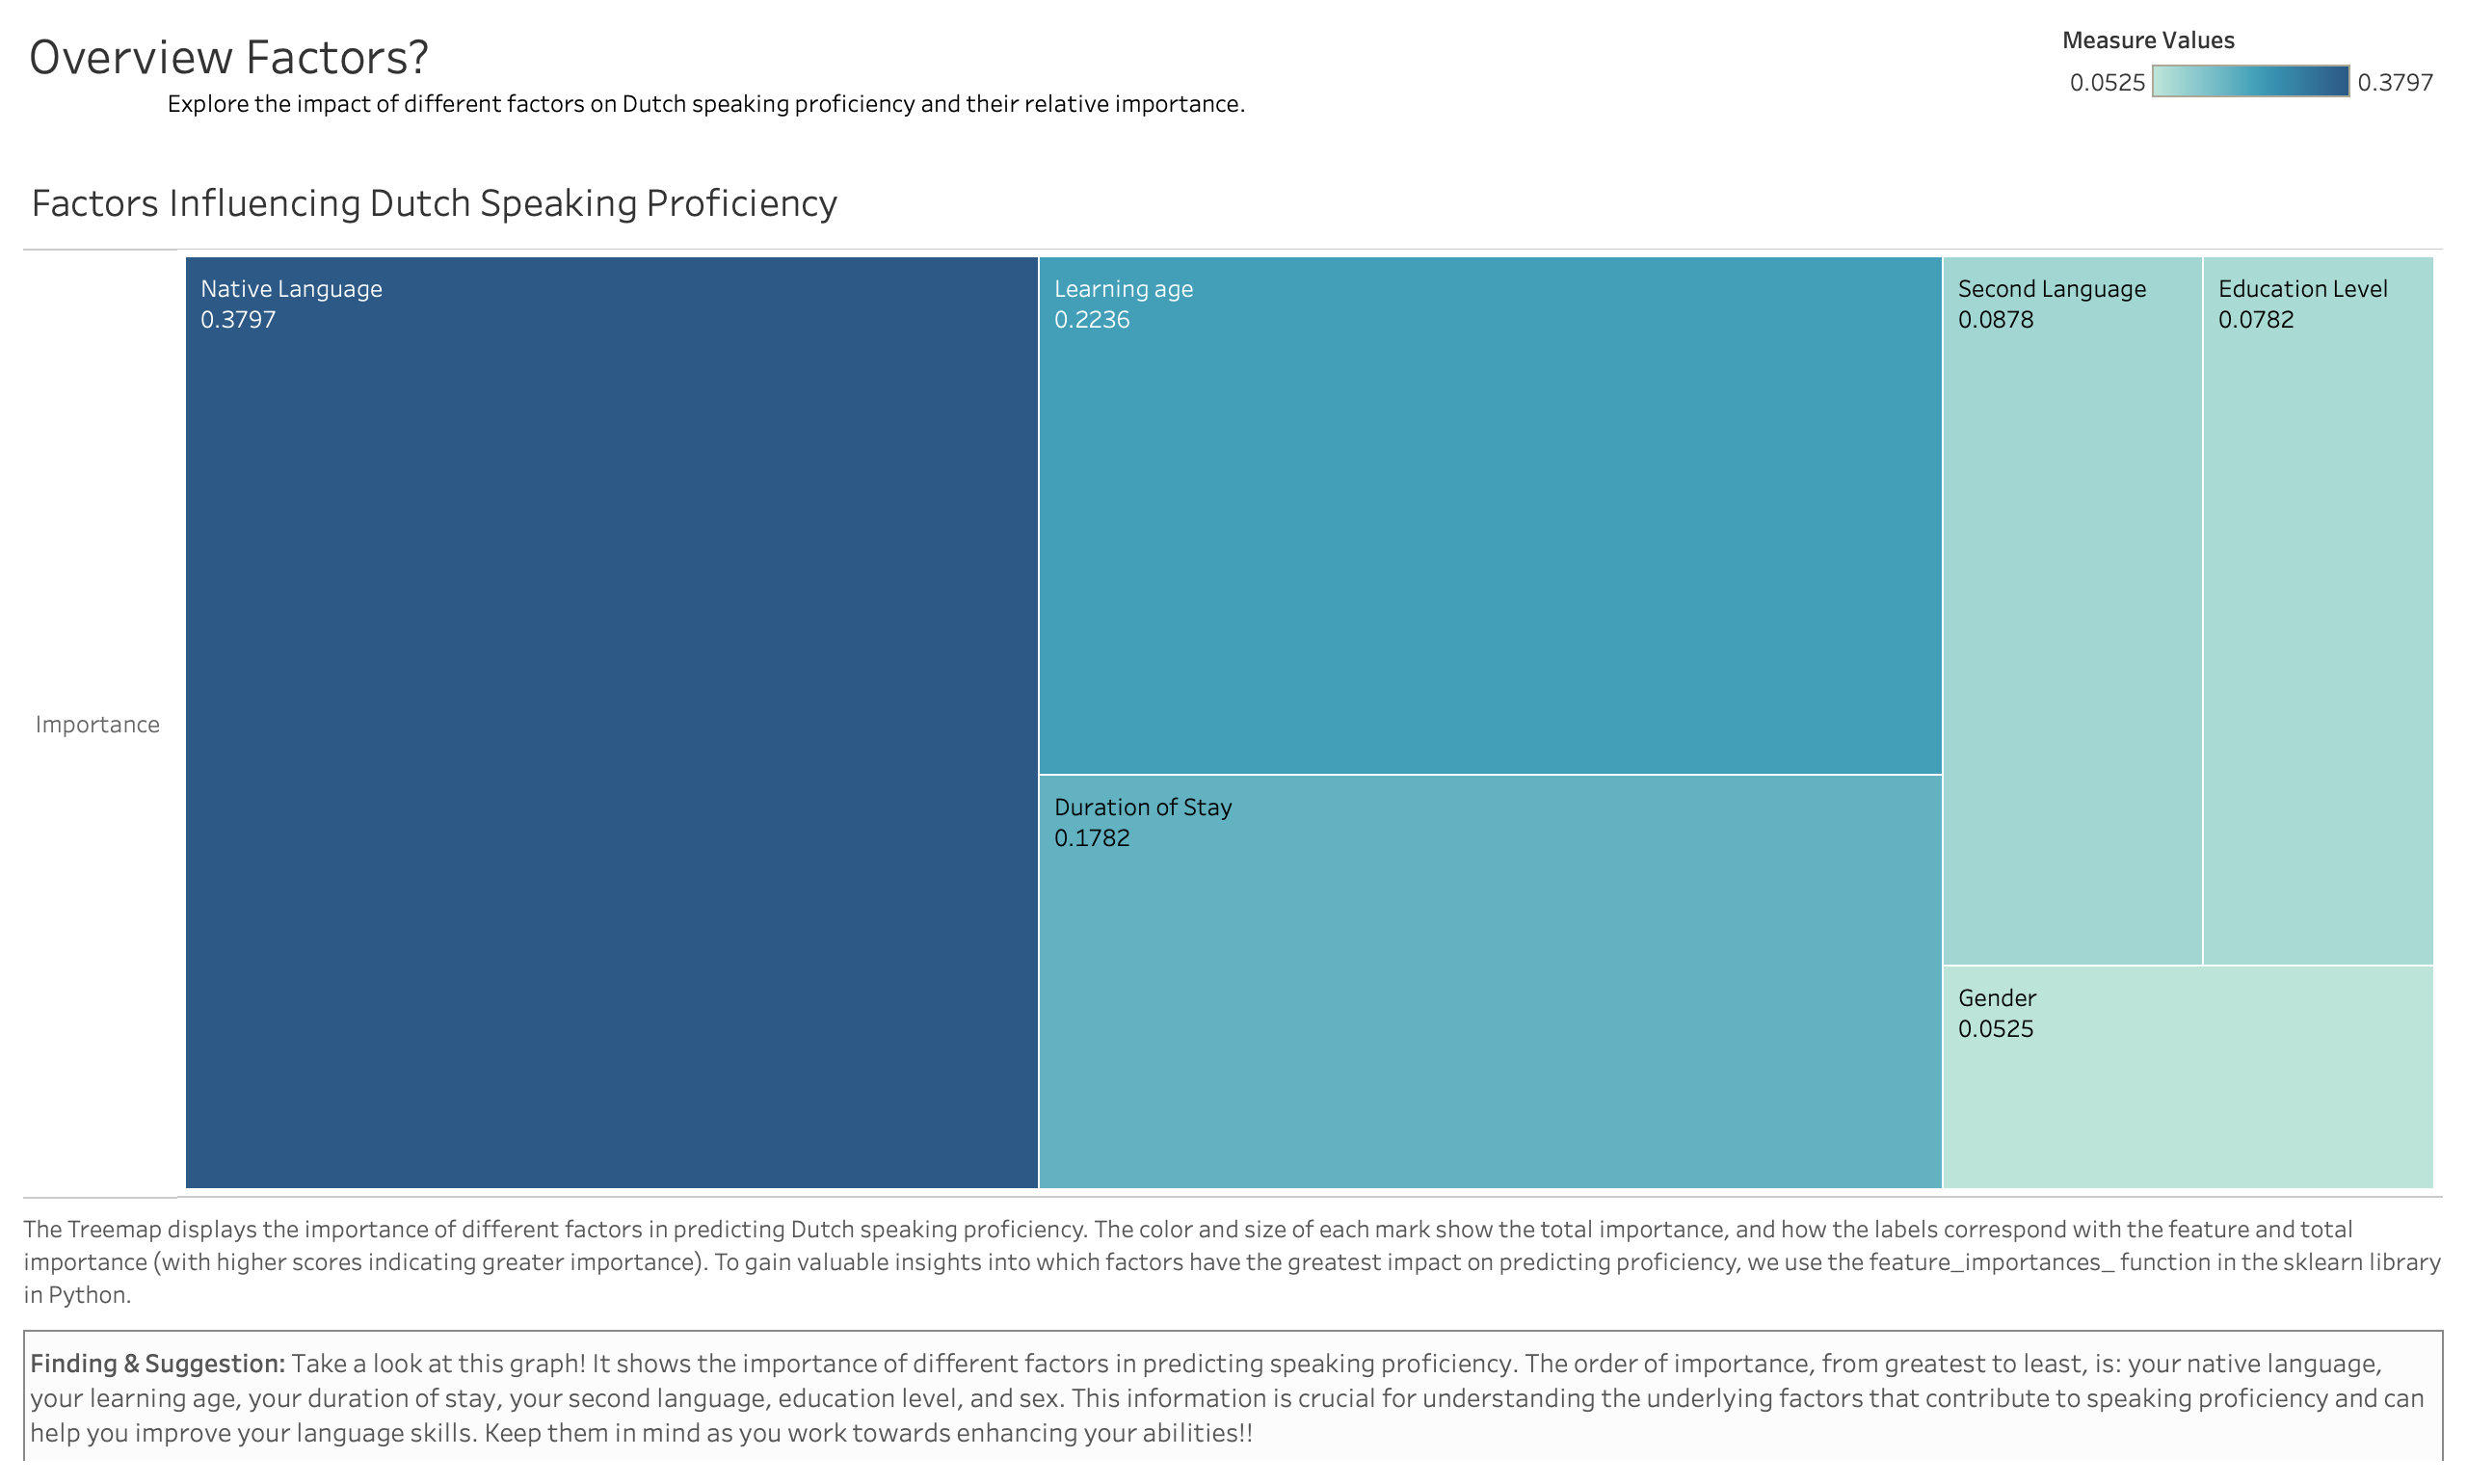

This screenshot's page, from the dashboard's own definition file:
{"tool":"tableau","page":{"name":"Dashboard 1","canvas":[1000,1000],"units":"permille","ordinal":0},"visuals":[{"type":"text","box":[6.2,10.4,826.3,97.1]},{"type":"legend","title":"Overview","param":"[federated.0cxksxi09x3vez1fhip3f1732nax (copy)].[Multiple Values]","box":[832.6,10.4,161.2,97.1]},{"type":"worksheet","title":"Overview","mark":"Automatic","box":[6.2,107.5,987.5,782.8]},{"type":"text","box":[6.2,890.3,987.5,99.4]}]}

Visuals, with their boxes on the dashboard's canvas, which has no fixed pixel size, in thousandths of its width and height (x1, y1, x2, y2). These are canvas units, not pixel positions in the 2467x1484 screenshot, which may show the page scaled, cropped or inside an application window:
text: x1=6 y1=10 x2=832 y2=108
"Overview" legend: x1=833 y1=10 x2=994 y2=108
"Overview" worksheet: x1=6 y1=108 x2=994 y2=890
text: x1=6 y1=890 x2=994 y2=990
